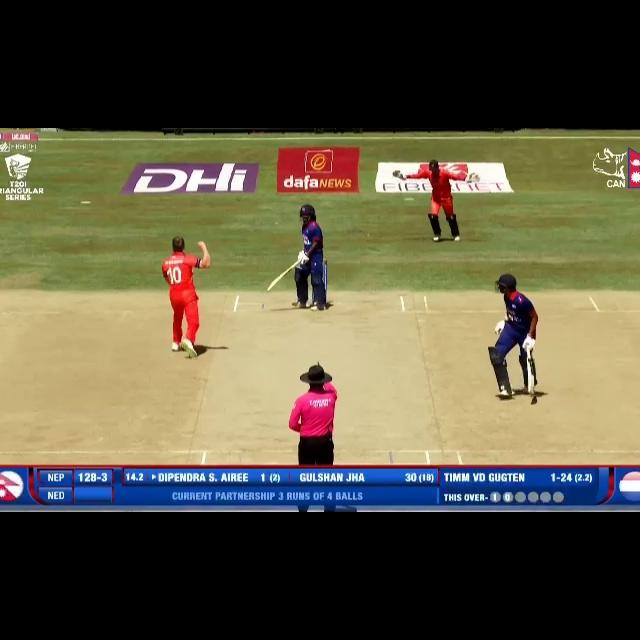umpire: (277, 358, 358, 512)
